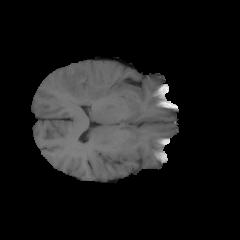glioma: (57, 62, 117, 108)
